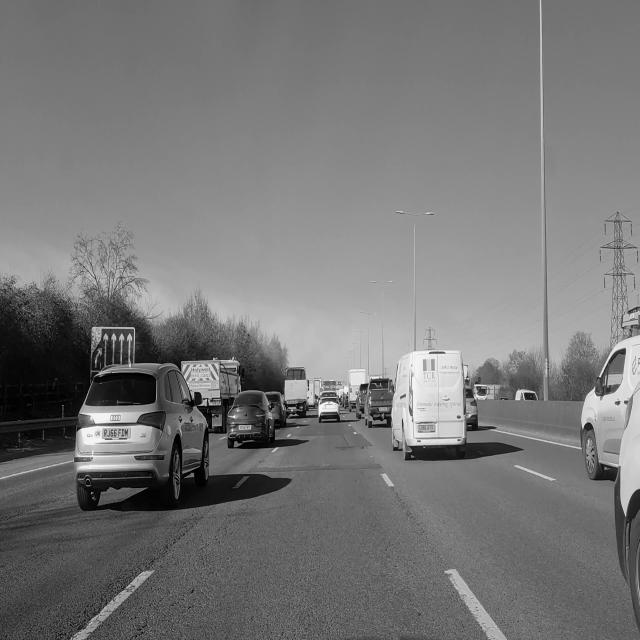car: (74, 364, 209, 510), (581, 336, 639, 479), (392, 350, 466, 460), (614, 383, 639, 629), (227, 391, 275, 448), (364, 379, 392, 427), (266, 392, 286, 428), (319, 392, 340, 422), (465, 387, 478, 430), (356, 383, 368, 419)
